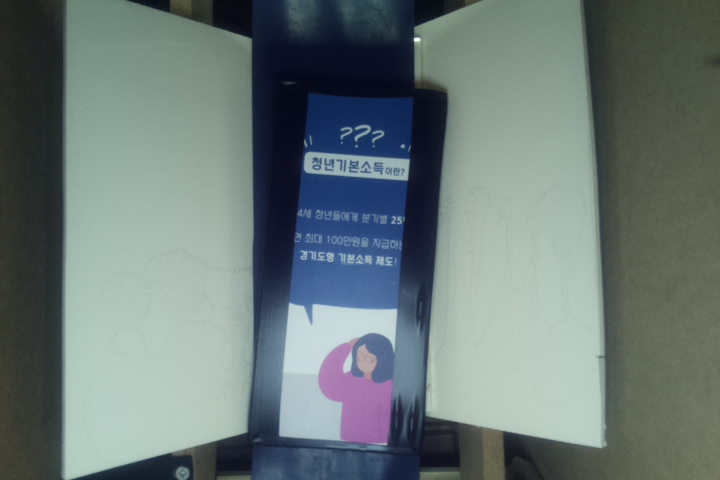book: (249, 81, 452, 457)
